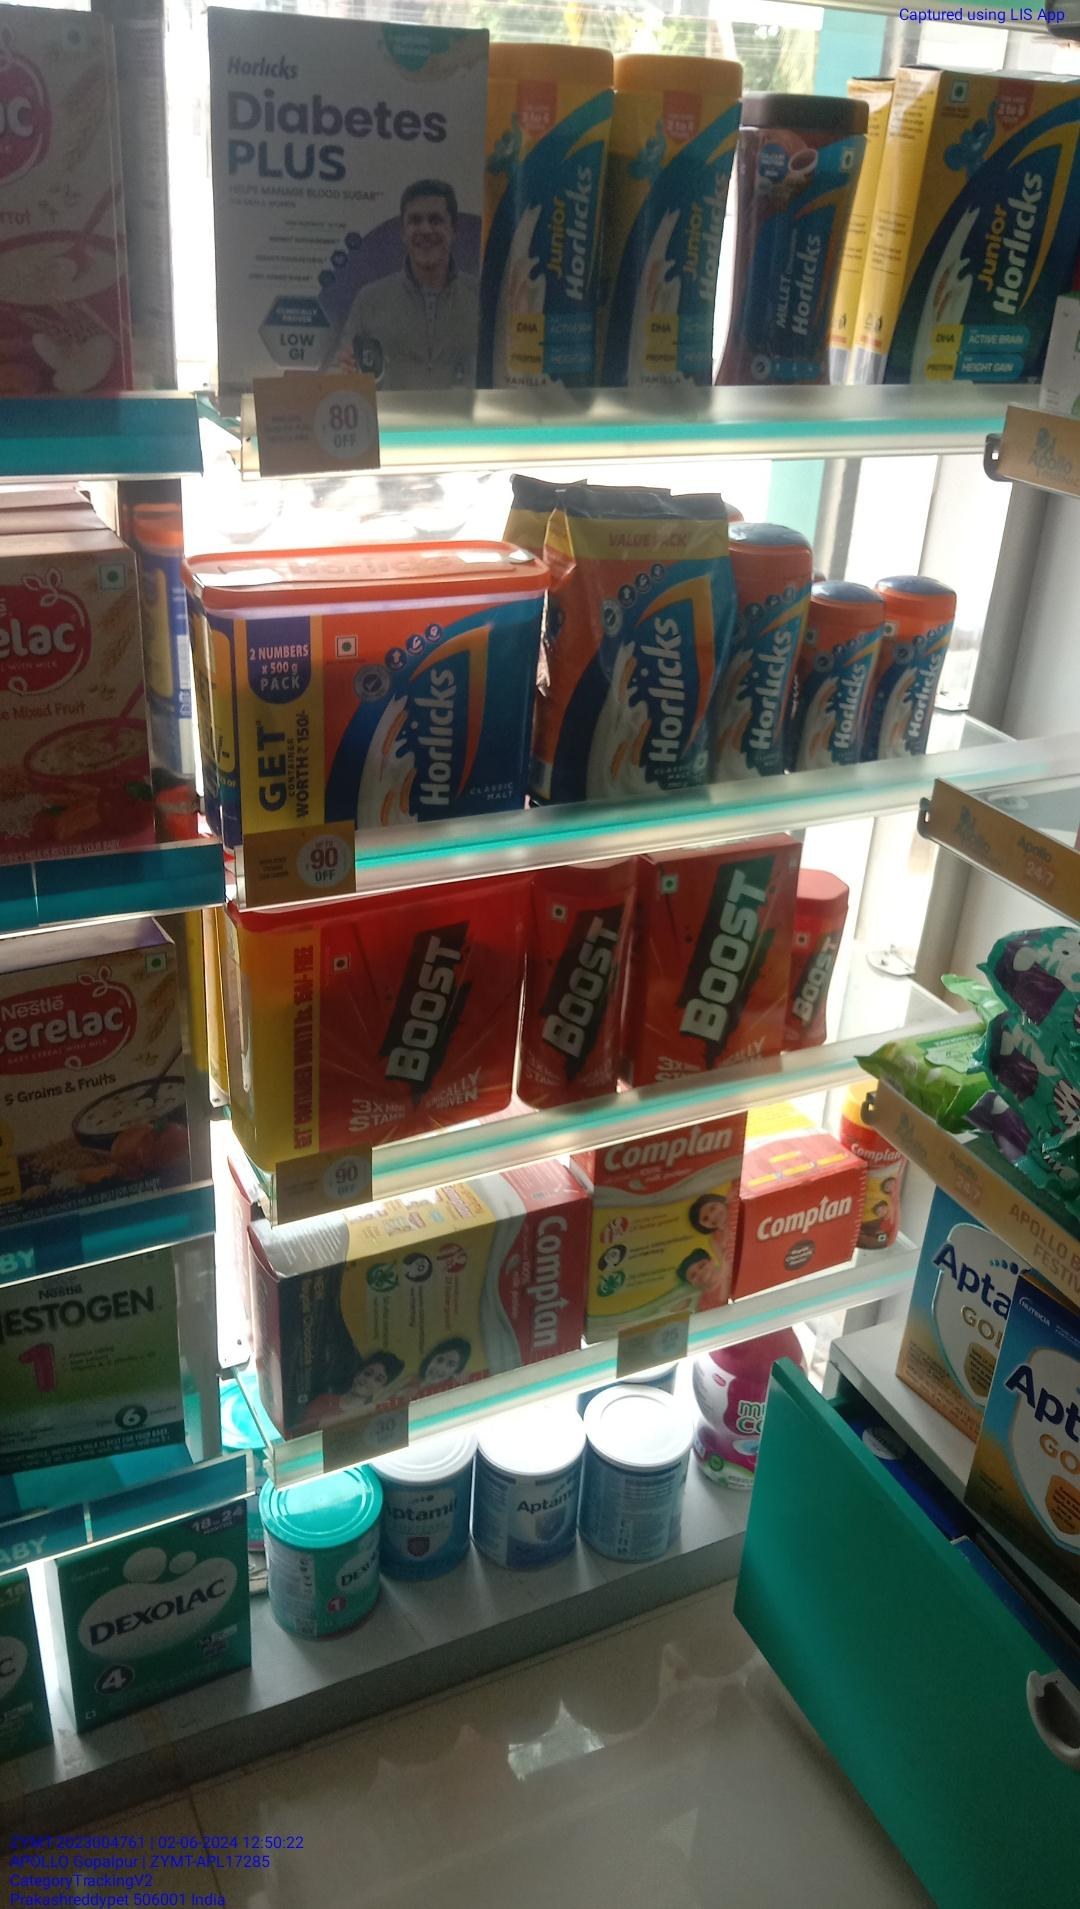HORLICK_MALT_1_KG_CONTAINER: (195, 570, 544, 835)
